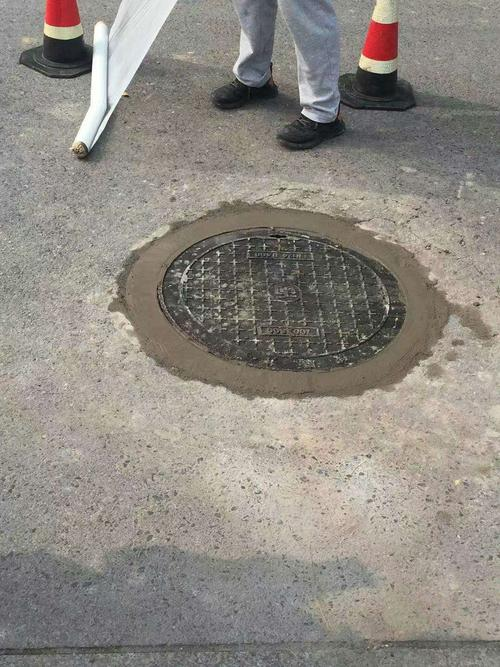good: (112, 186, 463, 402)
